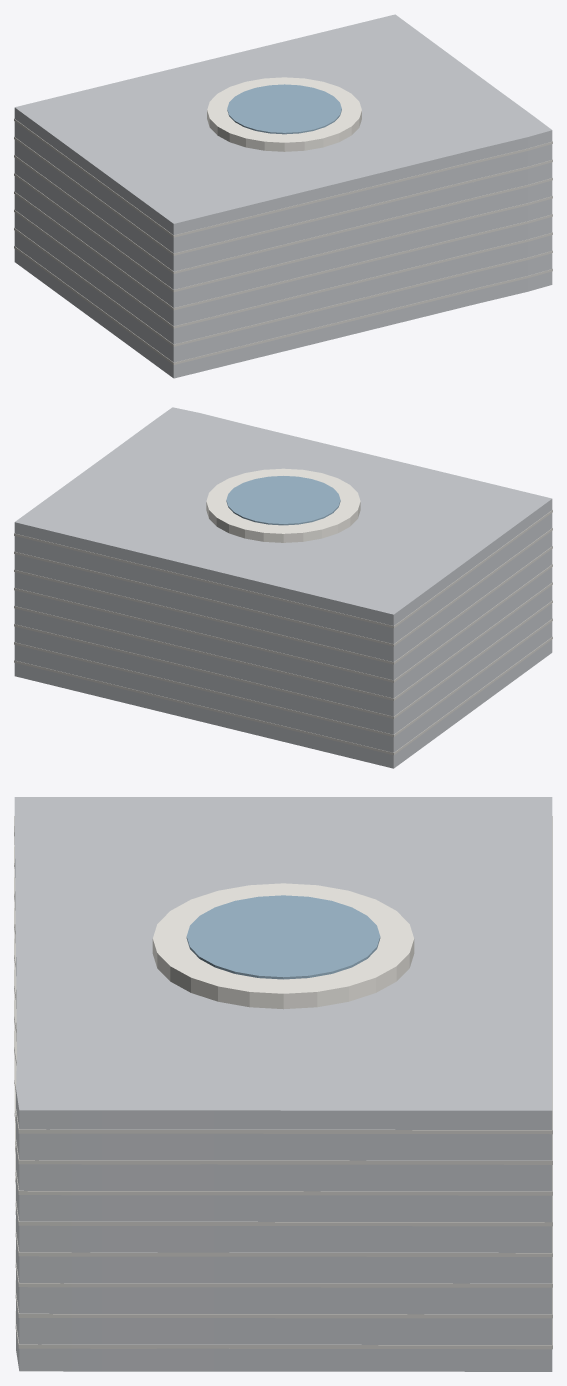
File: basel-messe.glb
3 renders of one model, top to bottom at view 1: azimuth 30°, elevation 25°; view 2: azimuth 150°, elevation 25°; view 3: azimuth 270°, elevation 25°, orthographic. The views are drawn at different scales.
Parts seen in each view (by area): view 1: building; view 2: building; view 3: building.
Boxes of the visible parts, <box> form: building: <box>14,14,552,378</box>; building: <box>14,407,552,768</box>; building: <box>14,797,552,1371</box>.
Bounding box in the file's own units: 87.79 × 36.3 × 63.61.
